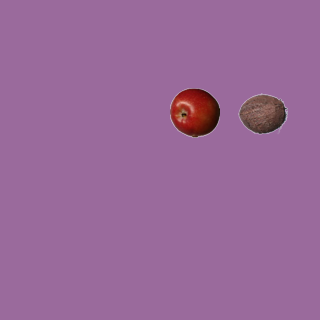Apple Braeburn: (169, 87, 219, 137)
Cocos: (237, 88, 287, 138)
